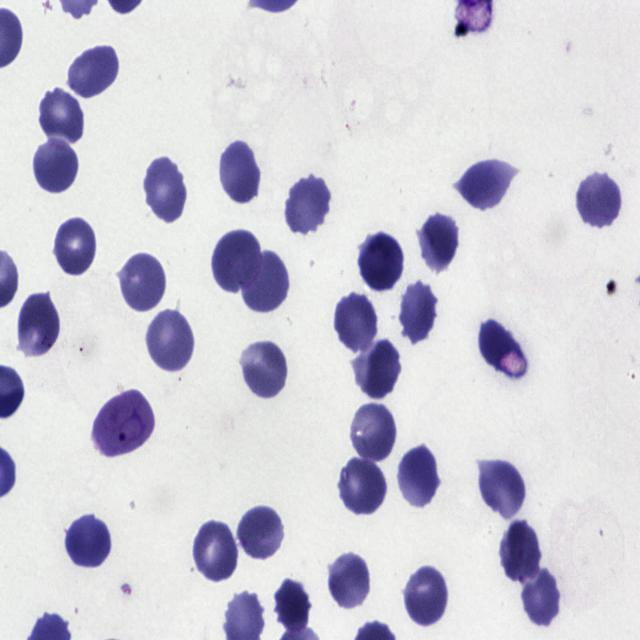red blood cell: (146, 306, 195, 378), (240, 249, 292, 316), (478, 455, 528, 519), (457, 156, 514, 212), (402, 566, 450, 631), (476, 318, 527, 378), (68, 44, 121, 101), (140, 159, 187, 223), (350, 400, 398, 462), (338, 462, 391, 518), (193, 518, 240, 581), (213, 233, 260, 296), (354, 342, 404, 401), (334, 291, 380, 354), (286, 172, 332, 235), (572, 174, 621, 233), (16, 291, 61, 354), (117, 256, 165, 314), (326, 551, 373, 610), (398, 443, 440, 509), (241, 340, 287, 400), (38, 87, 86, 144), (219, 144, 263, 206), (399, 278, 440, 344), (359, 232, 405, 290), (418, 210, 461, 272), (62, 518, 111, 572), (30, 144, 78, 198), (520, 568, 561, 630), (501, 518, 541, 581), (238, 509, 286, 561), (54, 218, 95, 276), (274, 578, 311, 634)
ring: (92, 388, 156, 458)
